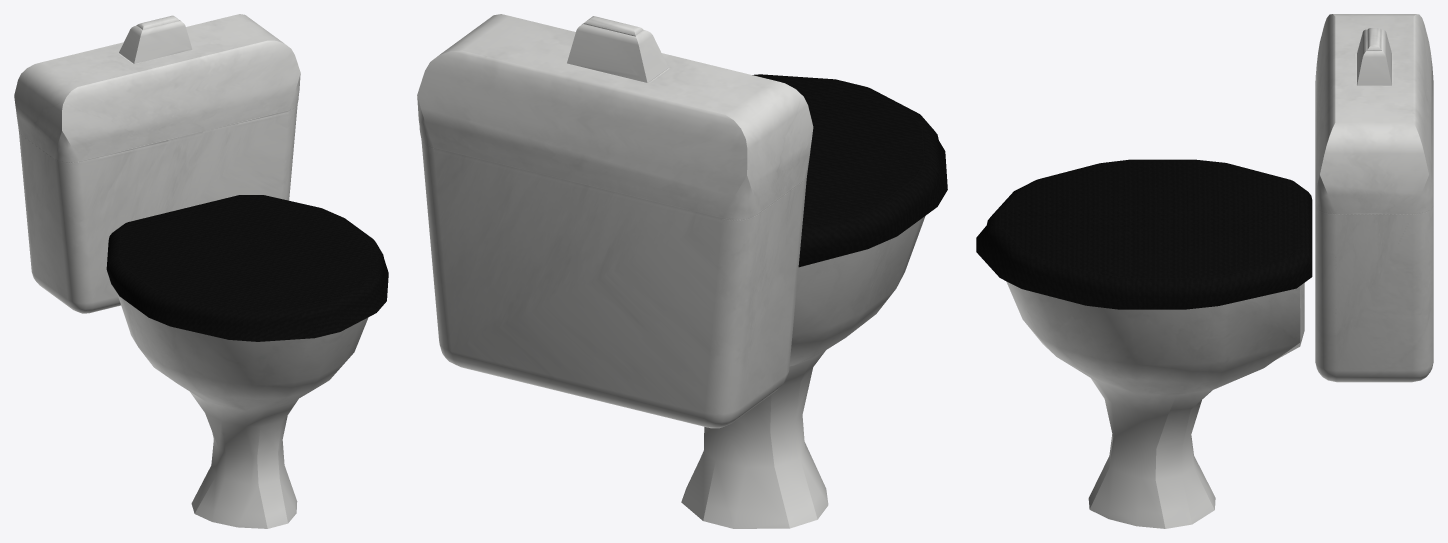
The model's file is toilet.glb.
3 renders of one model, left to right at view 1: azimuth 30°, elevation 25°; view 2: azimuth 150°, elevation 25°; view 3: azimuth 270°, elevation 25°, orthographic. The views are drawn at different scales.
Visible parts, largest first — view 1: Plano; view 2: Plano; view 3: Plano.
Part boxes in pixels (x1,y1,x2,y2): Plano: [14, 14, 388, 528]; Plano: [417, 14, 947, 528]; Plano: [976, 14, 1433, 528].
Bounding box in the file's own units: 0.6078 × 0.9893 × 0.8717.
Materials: 1 (1 with a texture image).
